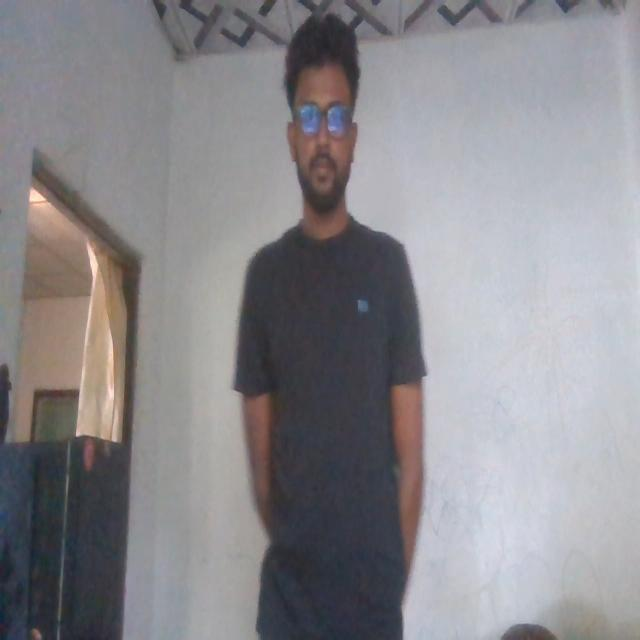Person: (234, 3, 443, 640)
